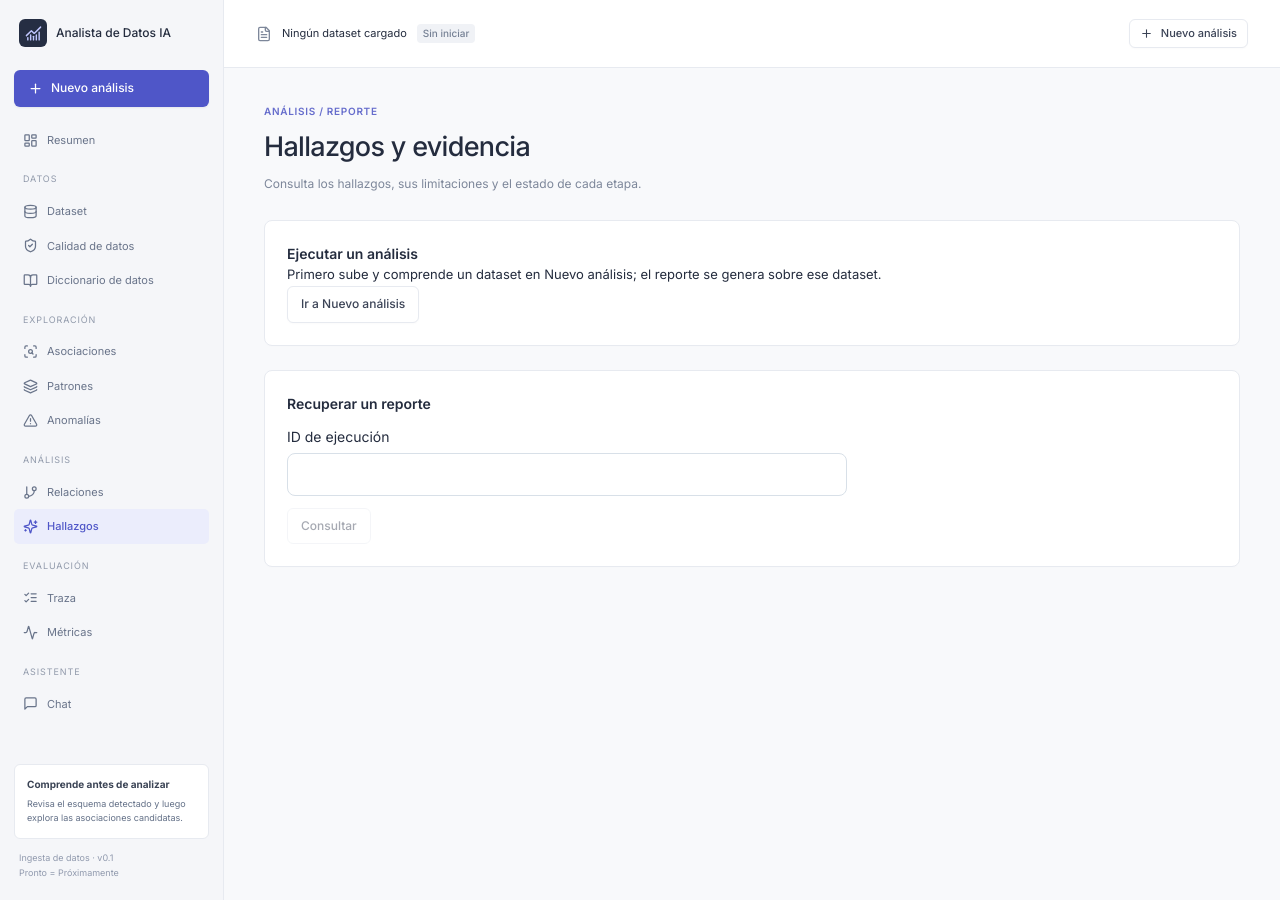
Chat fundamentado › shows abstention without presenting invented references
The image size is (1280, 900).
Type "chat-run" into the field labelled "ID de ejecución".
click(567, 474); type("chat-run")  # box [287,453,847,496]
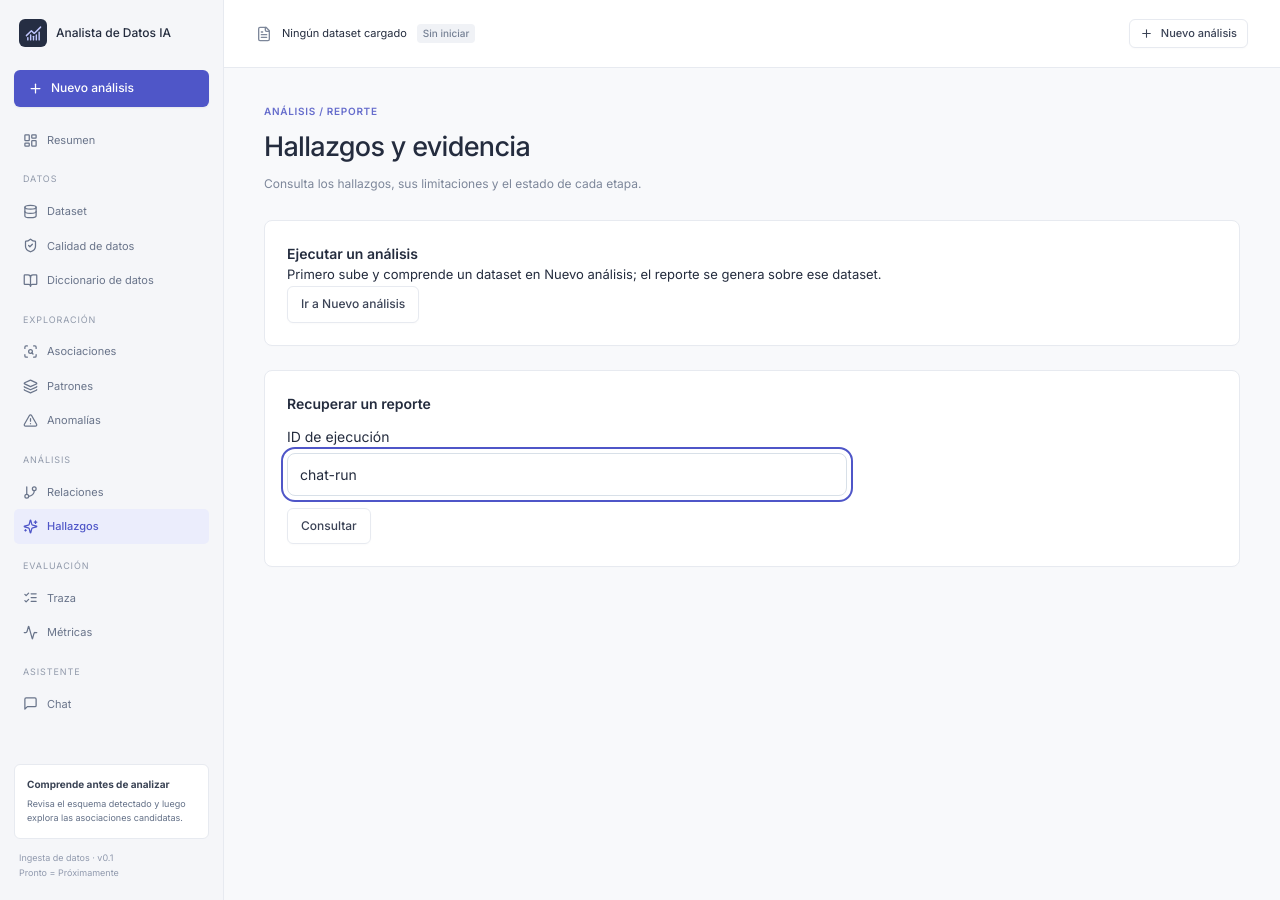
Click the button "Consultar".
click(329, 526)  # box [287,508,371,544]
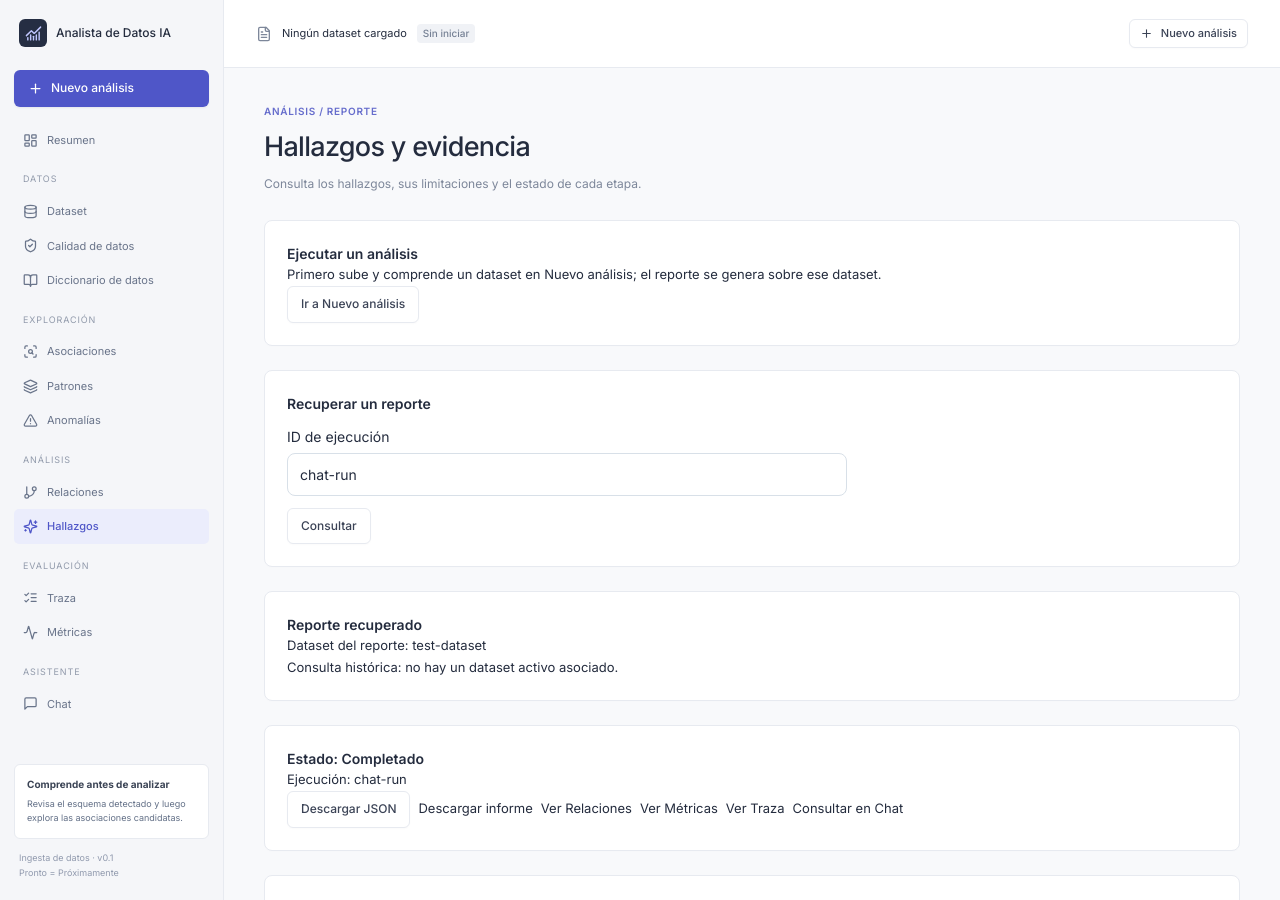
Now the text "Ejecución: chat-run" is shown, box [287,771,407,787]
Click the link "Chat".
click(47, 704)  # box [23,696,71,711]
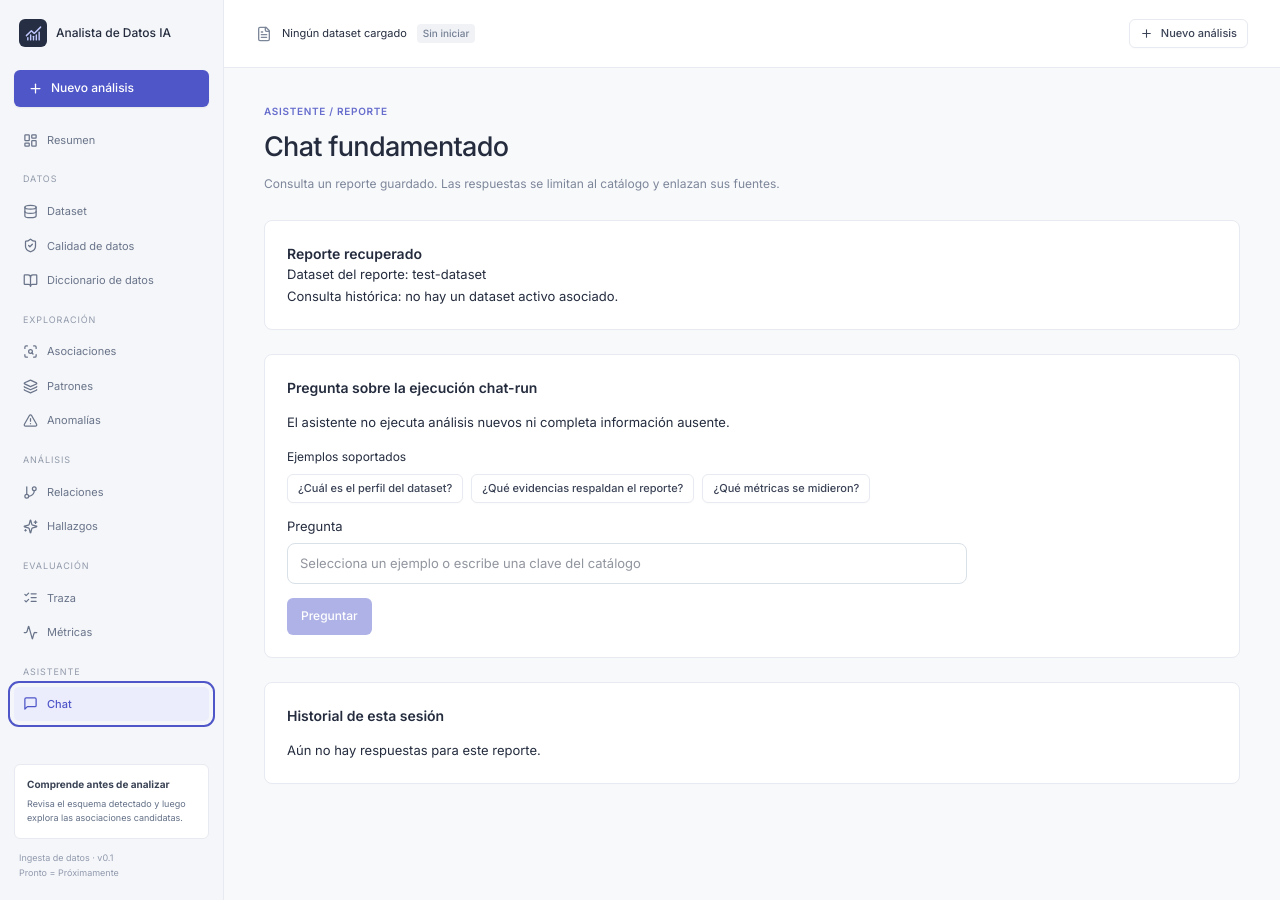
Type "predice ventas" into the field named "Pregunta para el reporte".
click(627, 563); type("predice ventas")  # box [287,543,967,584]
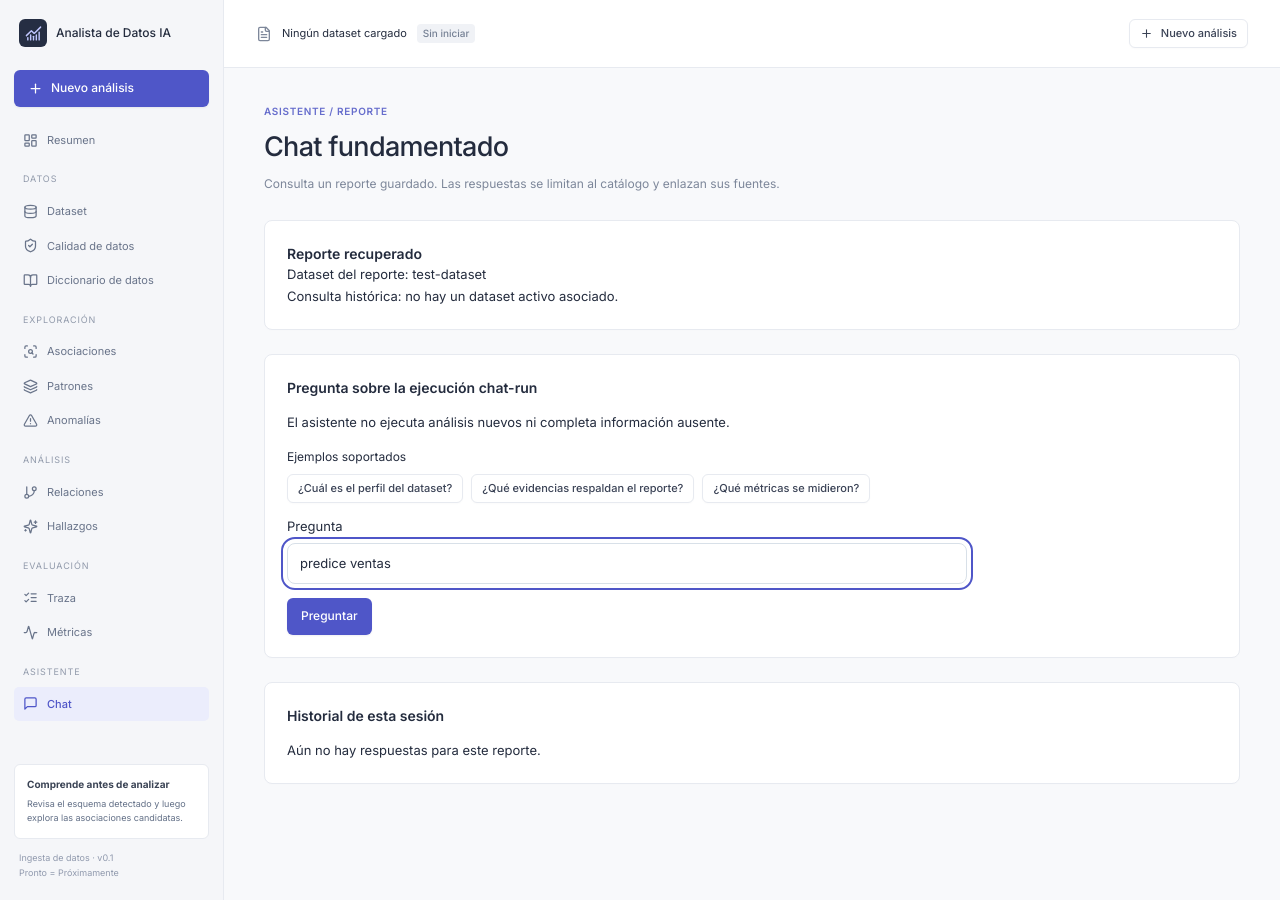
Click the button "Preguntar".
click(329, 616)  # box [287,598,372,635]
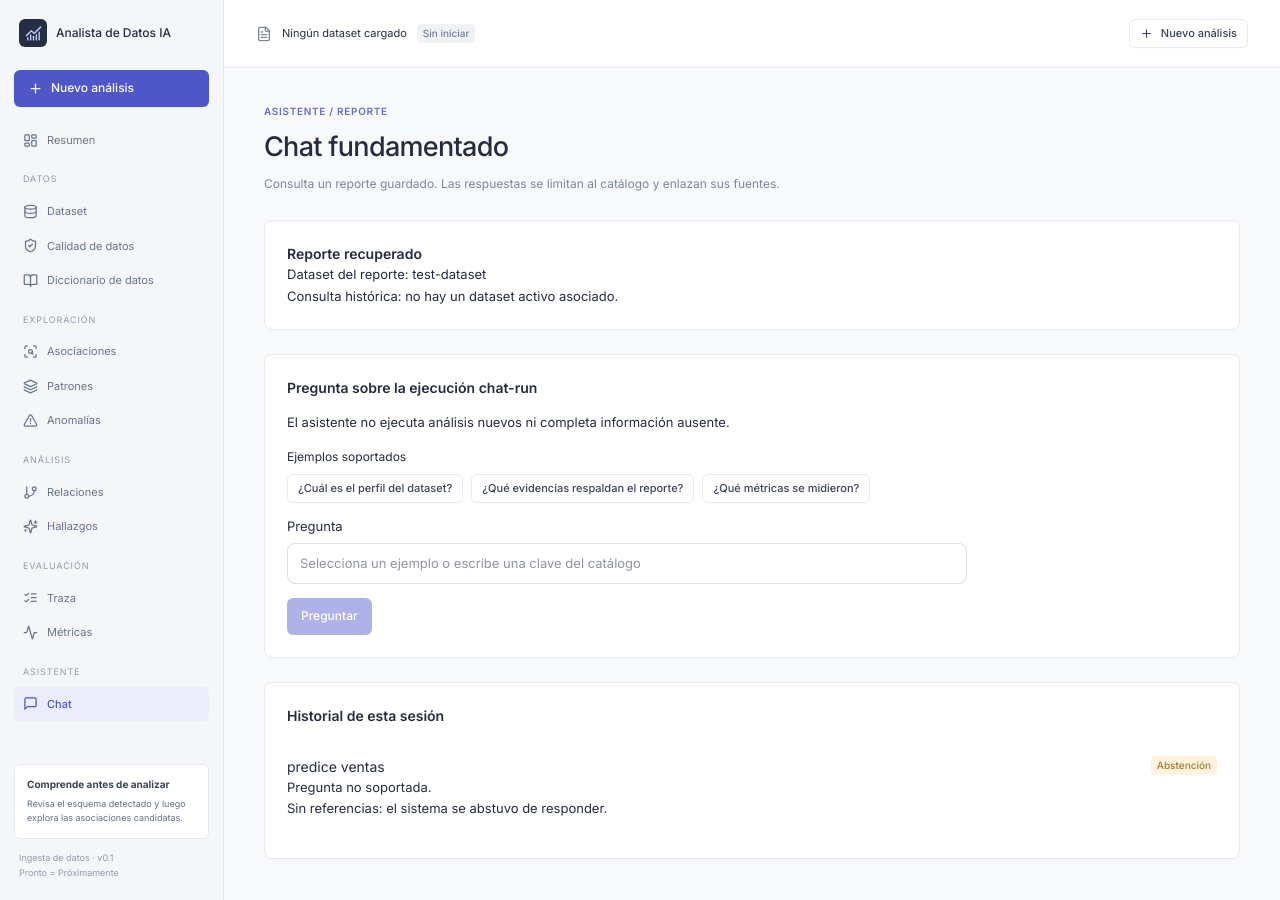
Now the text "Pregunta no soportada." is shown, box [287,779,431,795]
Now the text "Abstención" is shown, box [1151,756,1217,775]
Now the text "Sin referencias: el sistema se abstuvo de responder." is shown, box [287,800,607,816]
